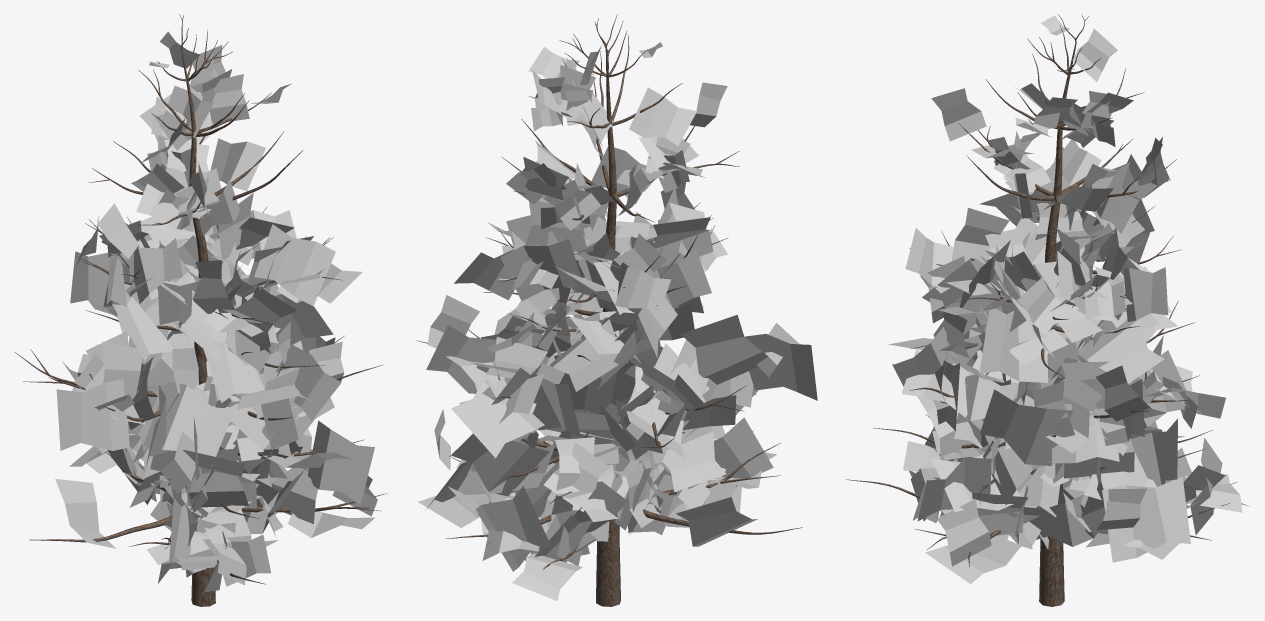
The model's file is Tree1.fbx.
The picture shows the model from 3 angles, left to right: view 1: azimuth 30°, elevation 25°; view 2: azimuth 150°, elevation 25°; view 3: azimuth 270°, elevation 25°; orthographic projection. The views are drawn at different scales.
Parts seen in each view (by area): view 1: tree; view 2: tree; view 3: tree.
Part boxes in pixels (left/top/right/bottom): tree: left=14, top=14, right=387, bottom=606; tree: left=416, top=14, right=817, bottom=606; tree: left=846, top=14, right=1249, bottom=606.
Size of the model in its own units: 24304 by 41332 by 25924.
